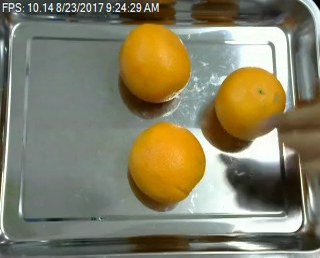Orange: (129, 123, 205, 204), (119, 23, 192, 102), (215, 67, 286, 140)
